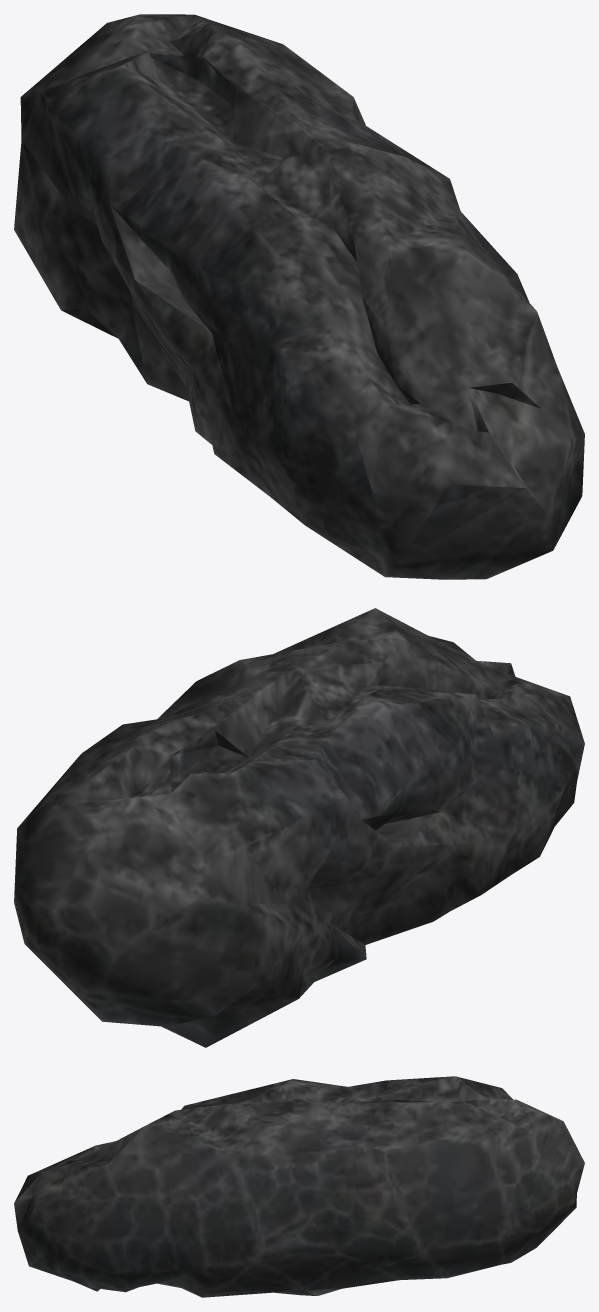
File: asteroid-2-lod1.glb
3 views of the same model, one above another, from view 1: azimuth 30°, elevation 25°; view 2: azimuth 150°, elevation 25°; view 3: azimuth 270°, elevation 25° (orthographic). The views are drawn at different scales.
Parts seen in each view (by area): view 1: asteroid-2-lod1; view 2: asteroid-2-lod1; view 3: asteroid-2-lod1.
Boxes of the visible parts, x1,y1,x2,y2 form: asteroid-2-lod1: (14, 14, 584, 579); asteroid-2-lod1: (14, 608, 584, 1047); asteroid-2-lod1: (14, 1076, 584, 1297).
Size of the model in its own units: 0.7662 by 0.7762 by 2.
1 material, 1 textured.
